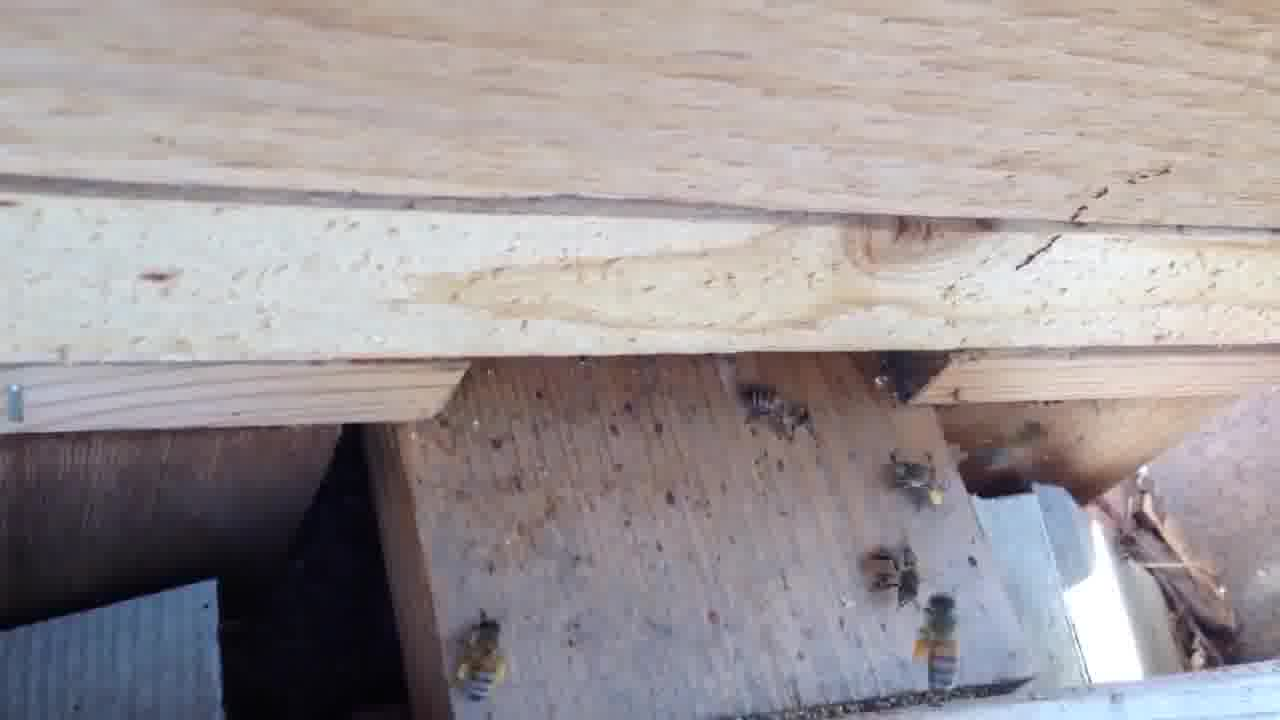pollen: (910, 590, 965, 700), (451, 607, 512, 704)
